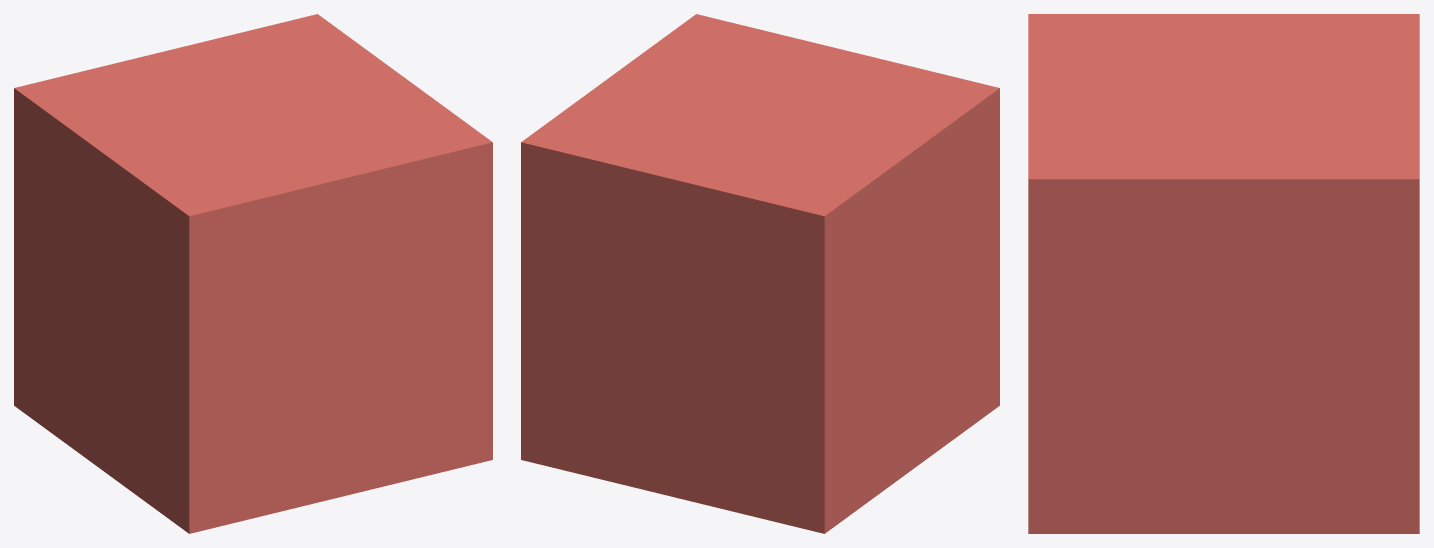
The model's file is target.glb.
The picture shows the model from 3 angles, left to right: view 1: azimuth 30°, elevation 25°; view 2: azimuth 150°, elevation 25°; view 3: azimuth 270°, elevation 25°; orthographic projection. The views are drawn at different scales.
Visible parts, largest first — view 1: Cube; view 2: Cube; view 3: Cube.
Part boxes in pixels (x1,y1,x2,y2): Cube: (14,14,492,533); Cube: (521,14,999,533); Cube: (1028,14,1419,533).
Size of the model in its own units: 1 by 1 by 1.
